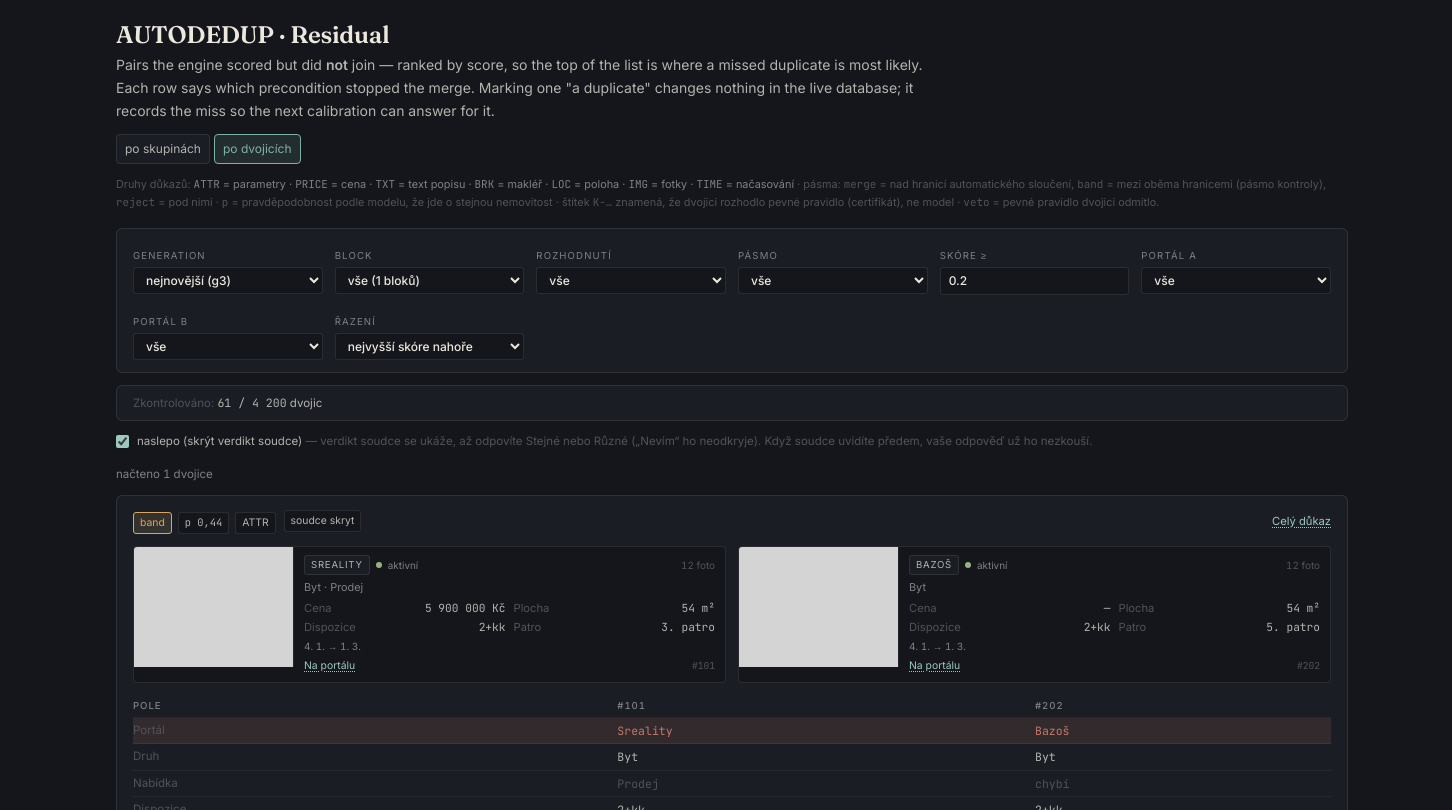
Test: <AutodedupResidual> › asks for the seeded sample order and keeps the default seed out of the URL
Select "náhodný vzorek" in the dropdown labelled "Řazení". click: coordinates (430, 346)
box: [335,333,524,360]
(page scrolled)
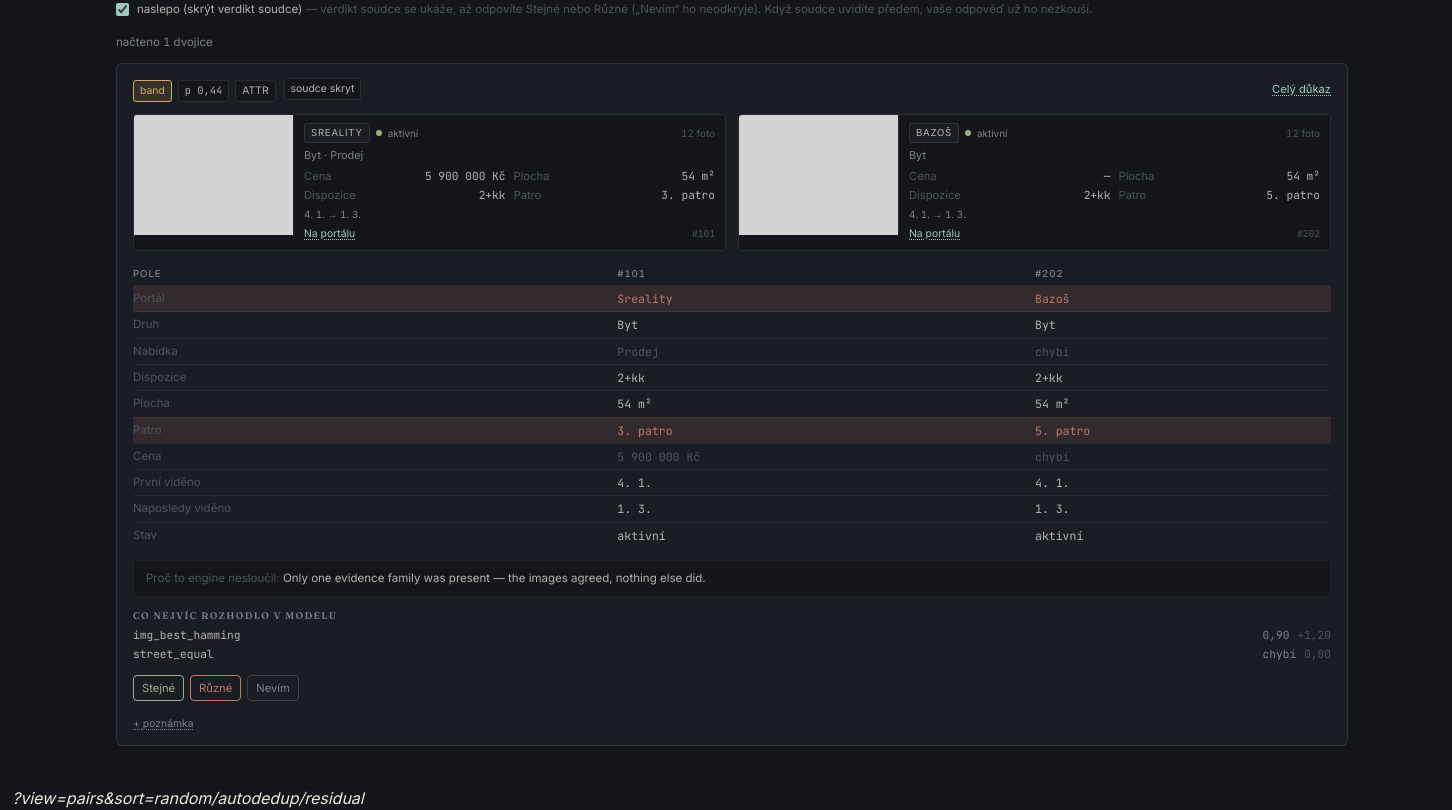
Now the text with test id "search" shows "sort=random", box [12,788,211,808]
